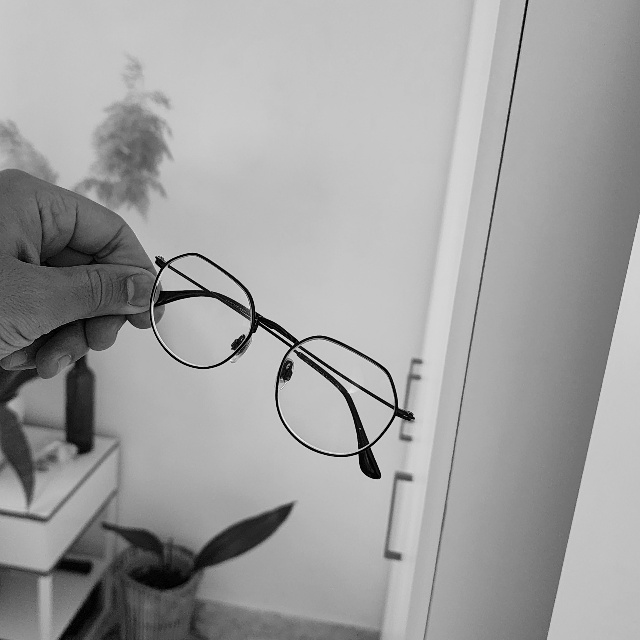glasses: (143, 246, 418, 484)
